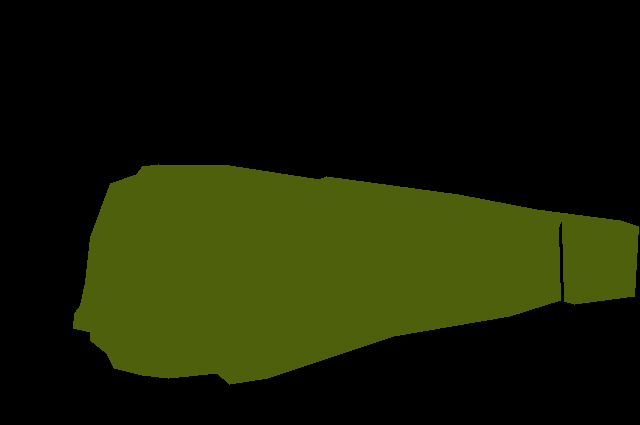Train: (73, 164, 638, 385)
